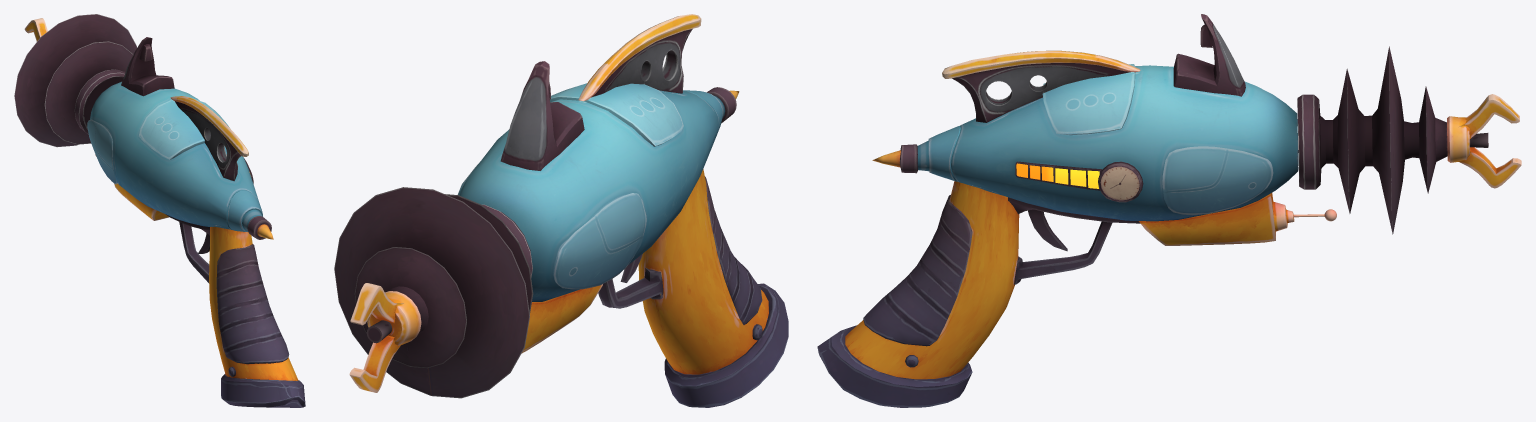
File: stylized_gun.glb
3 views of the same model, side by side, from view 1: azimuth 30°, elevation 25°; view 2: azimuth 150°, elevation 25°; view 3: azimuth 270°, elevation 25° (orthographic). The views are drawn at different scales.
Parts seen in each view (by area): view 1: Cylinder.020_19, Cylinder.001_1, Cylinder.019_17, Cylinder.007_6, Cylinder.017_16, Cylinder.008_7, Cylinder.015_14, Cylinder.002_3, Cylinder.016_15, Cylinder.022_21, Cylinder.011_11, Cylinder.006_5 (+2 smaller); view 2: Cylinder.001_1, Cylinder.020_19, Cylinder.007_6, Cylinder.016_15, Cylinder.008_7, Cylinder.015_14, Cylinder.009_9, Cylinder.017_16, Cylinder.002_3, Cylinder.019_17, Cylinder.003_2, Cylinder.022_21 (+3 smaller); view 3: Cylinder.020_19, Cylinder.007_6, Cylinder.001_1, Cylinder.019_17, Cylinder.016_15, Cylinder.008_7, Cylinder.017_16, Cylinder.002_3, Cylinder.003_2, Cylinder.009_9, Cylinder.015_14, Cylinder.022_21 (+6 smaller).
Part boxes in pixels (<box>): Cylinder.020_19: <box>90,81,262,231</box>; Cylinder.001_1: <box>14,14,136,147</box>; Cylinder.019_17: <box>216,244,289,364</box>; Cylinder.007_6: <box>209,226,298,380</box>; Cylinder.017_16: <box>138,98,229,159</box>; Cylinder.008_7: <box>221,374,305,407</box>; Cylinder.015_14: <box>121,37,174,96</box>; Cylinder.002_3: <box>175,101,241,181</box>; Cylinder.016_15: <box>87,119,116,184</box>; Cylinder.022_21: <box>170,96,248,156</box>; Cylinder.011_11: <box>179,222,209,283</box>; Cylinder.006_5: <box>242,209,273,239</box>; Cylinder.001_1: <box>334,187,533,398</box>; Cylinder.020_19: <box>458,90,722,301</box>; Cylinder.007_6: <box>638,169,768,374</box>; Cylinder.016_15: <box>457,163,646,289</box>; Cylinder.008_7: <box>664,283,788,407</box>; Cylinder.015_14: <box>500,61,584,170</box>; Cylinder.009_9: <box>349,283,421,392</box>; Cylinder.017_16: <box>550,83,683,146</box>; Cylinder.002_3: <box>591,29,692,97</box>; Cylinder.019_17: <box>705,176,762,324</box>; Cylinder.003_2: <box>521,284,602,353</box>; Cylinder.022_21: <box>578,14,701,101</box>; Cylinder.020_19: <box>928,65,1298,221</box>; Cylinder.007_6: <box>845,181,1019,379</box>; Cylinder.001_1: <box>1297,46,1447,234</box>; Cylinder.019_17: <box>863,195,972,346</box>; Cylinder.016_15: <box>1162,146,1273,215</box>; Cylinder.008_7: <box>817,325,972,407</box>; Cylinder.017_16: <box>1042,64,1135,135</box>; Cylinder.002_3: <box>952,63,1130,122</box>; Cylinder.003_2: <box>1139,193,1275,245</box>; Cylinder.009_9: <box>1447,94,1521,188</box>; Cylinder.015_14: <box>1173,14,1245,96</box>; Cylinder.022_21: <box>942,50,1140,78</box>.
Size of the model in its own units: 2.49 by 5.5 by 9.19.
1 material, 1 textured.
